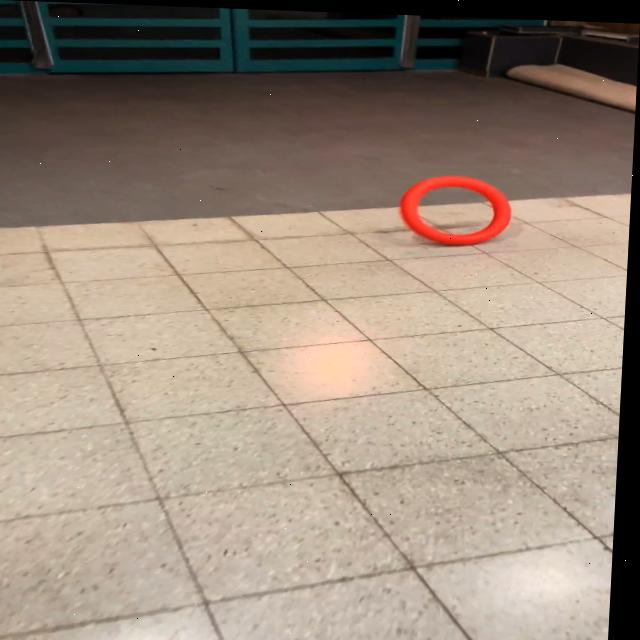note: (397, 169, 517, 245)
